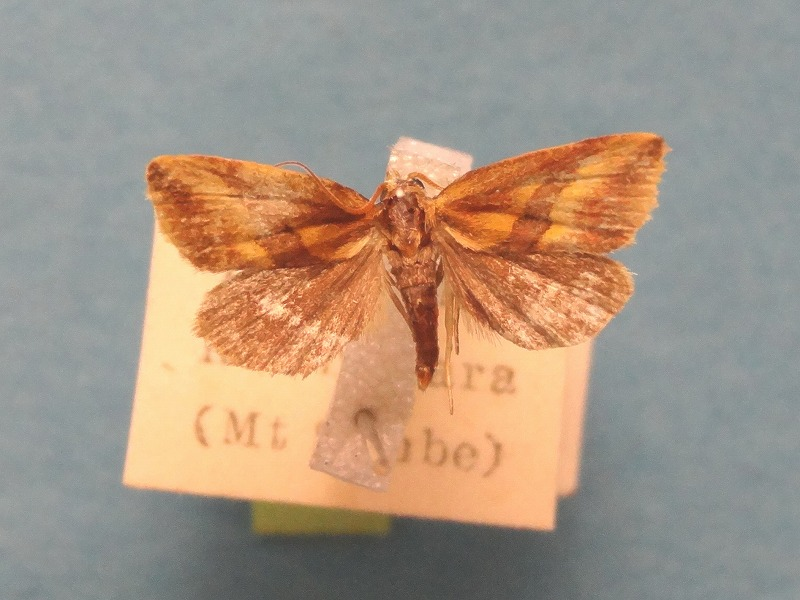Noctuidae: (142, 128, 675, 420)
